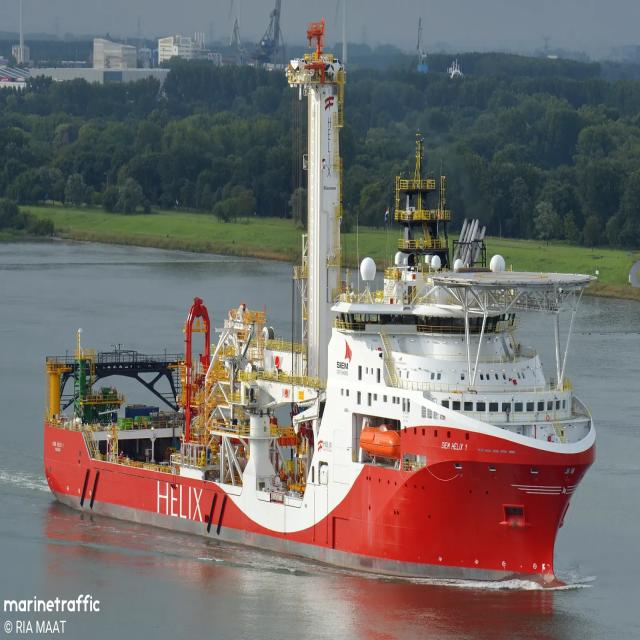Offshore: (44, 22, 597, 586)
